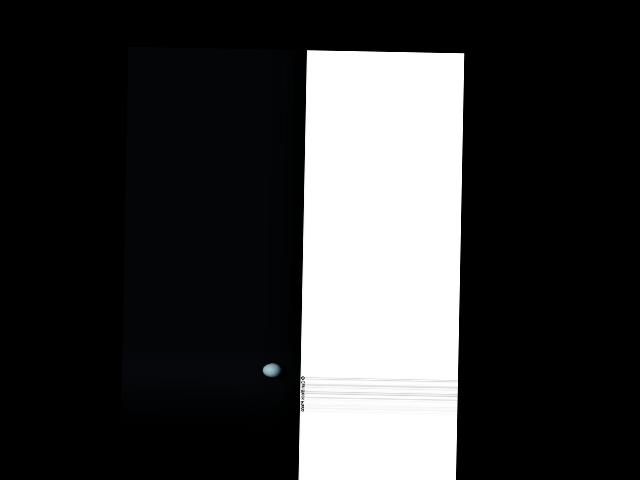egg: (262, 362, 282, 377)
